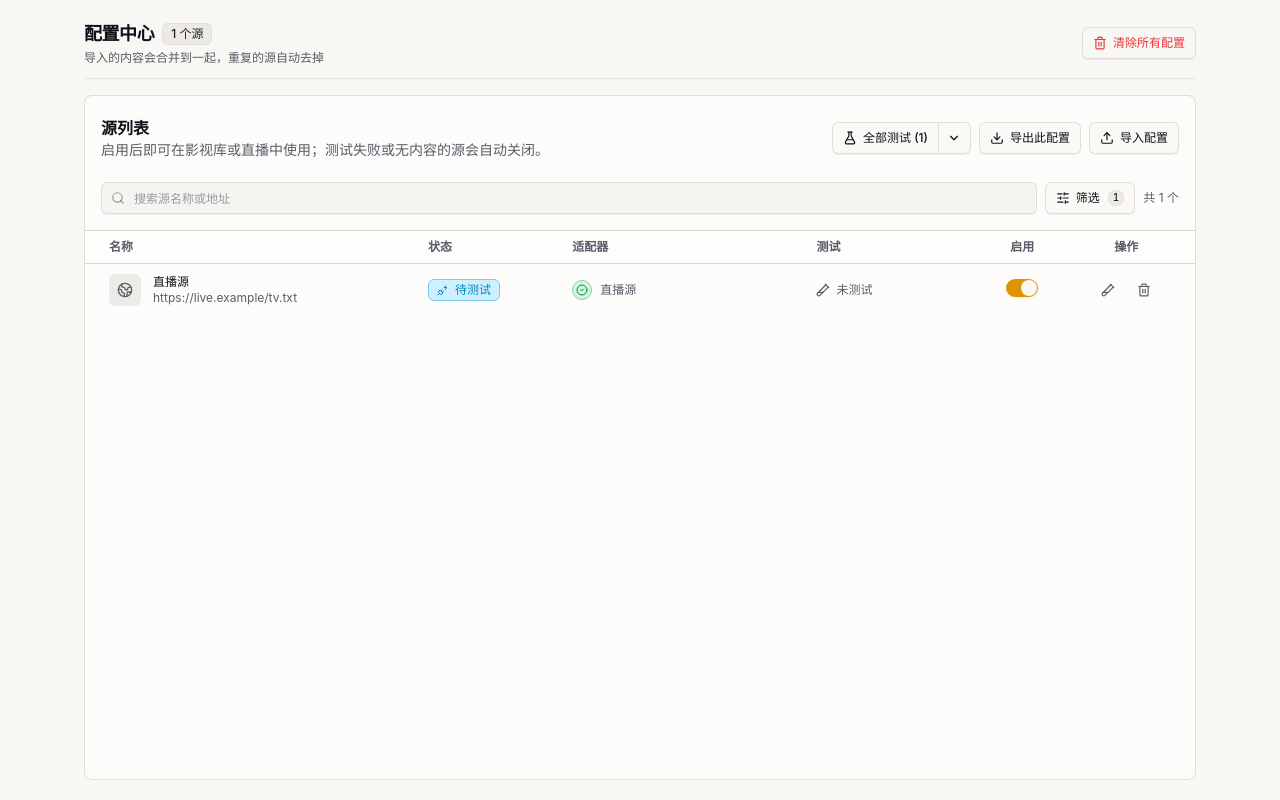
Scenario: config center › shows a live source's guide and logo addresses
The image size is (1280, 800).
Click the row "直播源 https://live.example/tv.txt 待测试 直播源 未测试".
click(125, 290)  # box left=85, top=263, right=1195, bottom=316
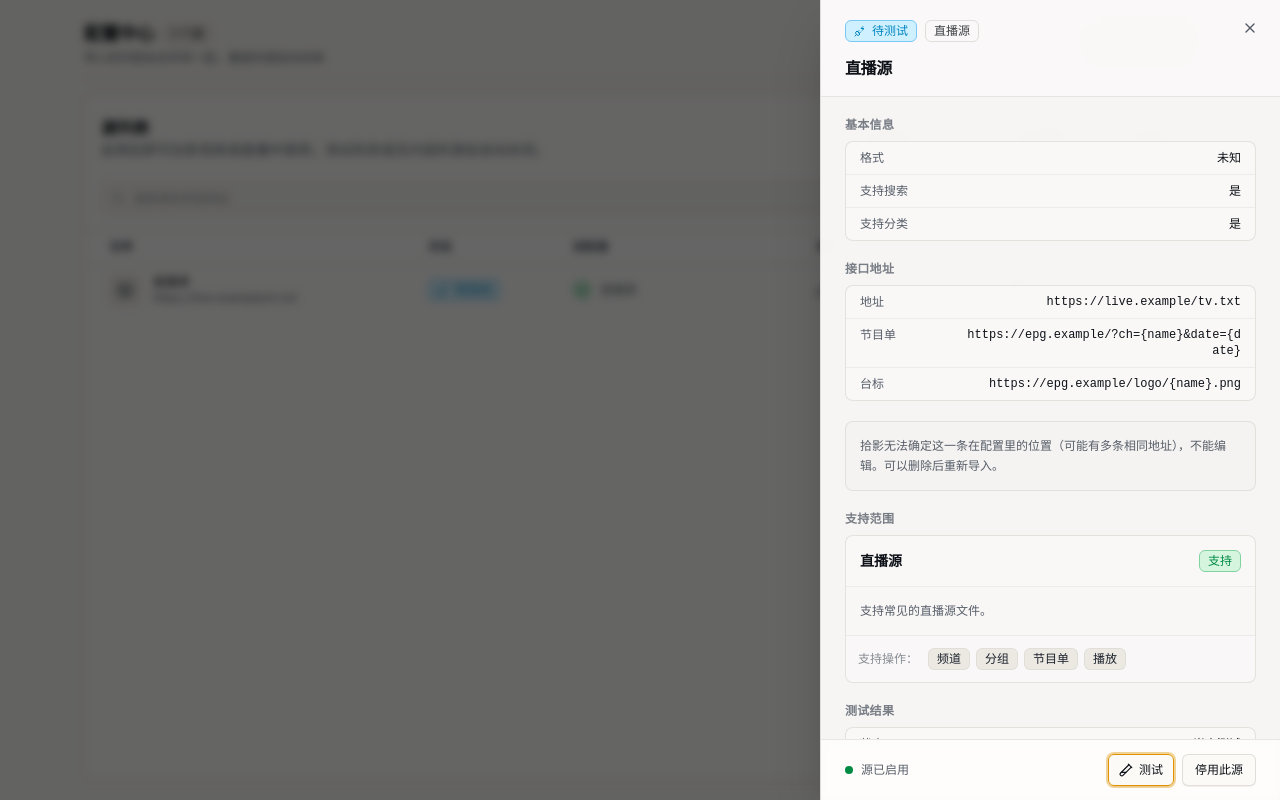
Result: the text "https://epg.example/?ch={name}&date={date}" is shown at left=961, top=327, right=1241, bottom=359
Result: the text "https://epg.example/logo/{name}.png" is shown at left=989, top=376, right=1241, bottom=392
